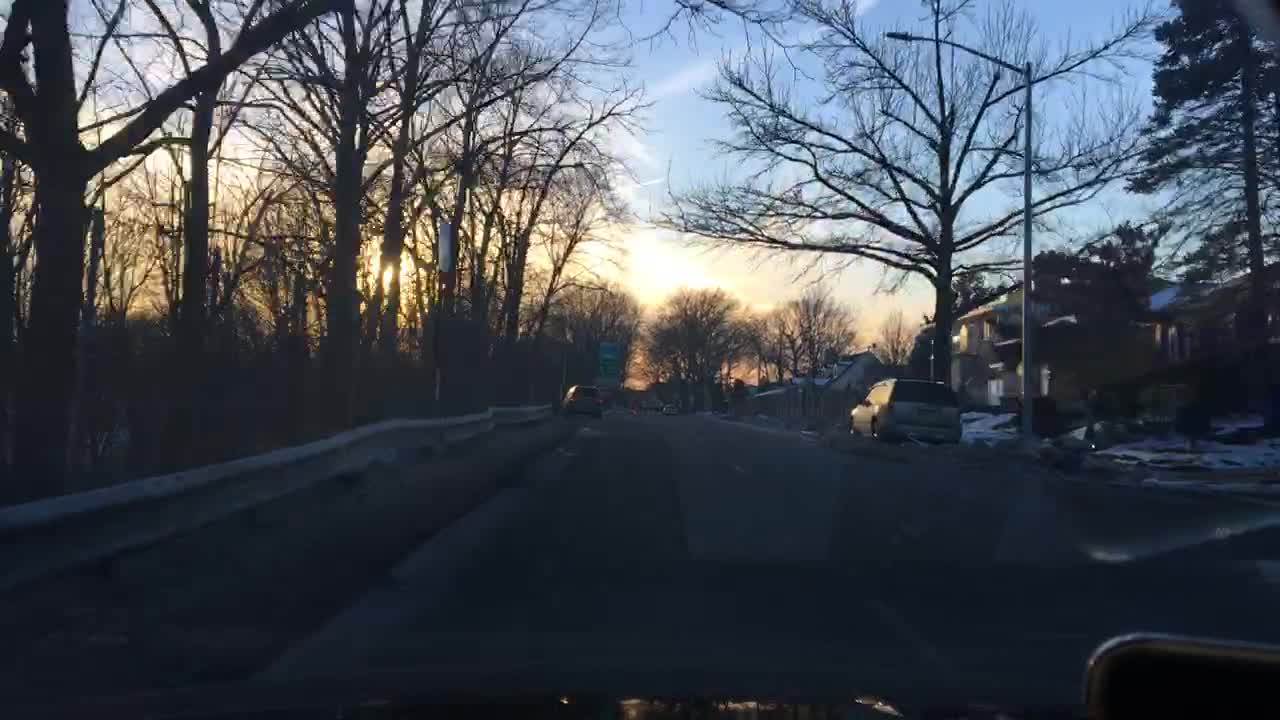car: (847, 377, 964, 447), (560, 382, 605, 420), (661, 401, 679, 414)
traffic sign: (595, 341, 621, 380)
